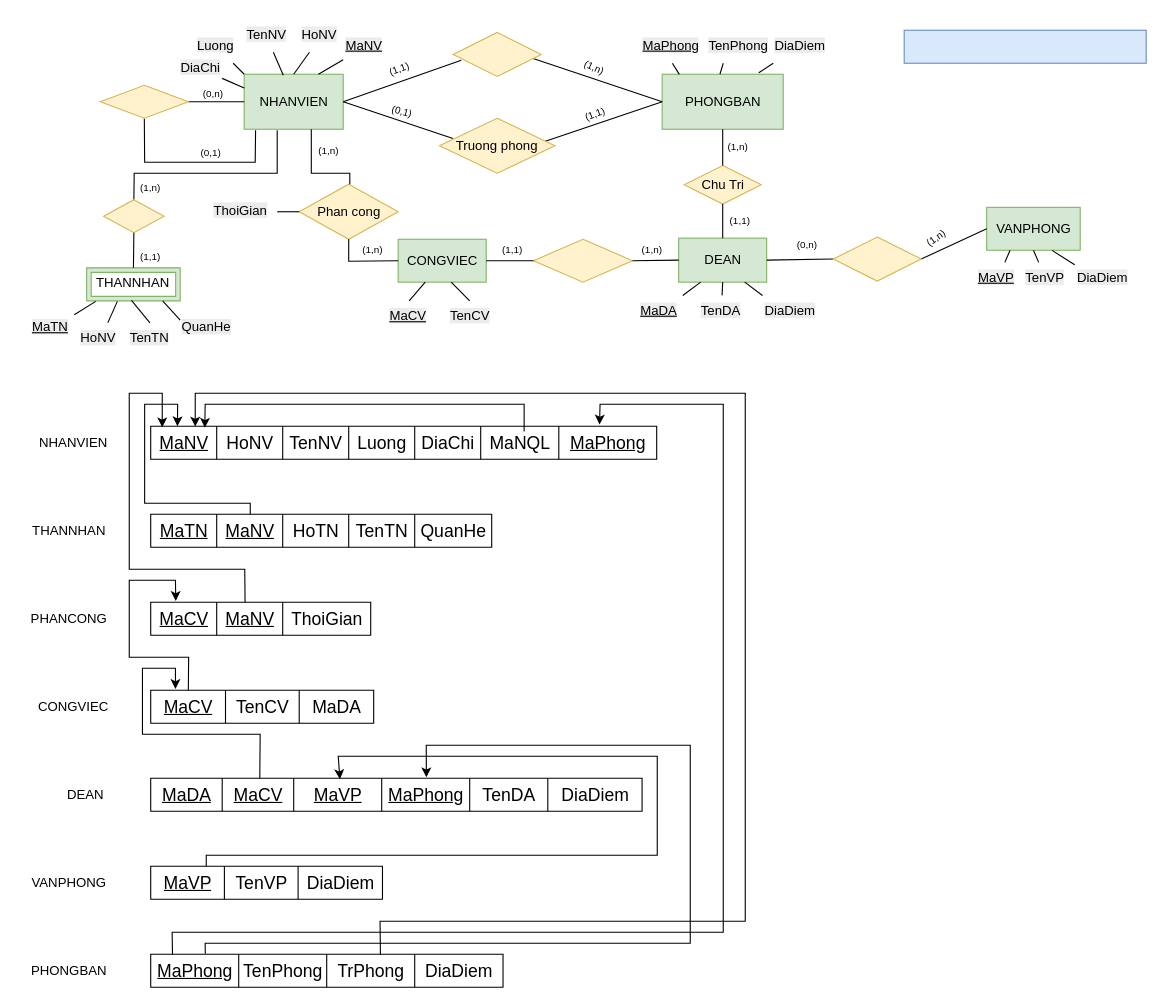
This 1166x1007 diagram has some shape labels left out. The centre of each missing label's shape, as x and y in pixels:
24521943 _ Trần Anh Tuấn: (1024,46)
Chia nho: (582,260)
Co: (133,216)
Quan ly: (143,101)
Thuoc: (496,53)
Xu ly: (876,258)
